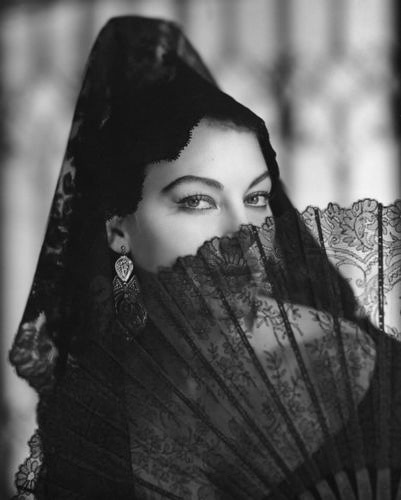face: (132, 119, 277, 336)
